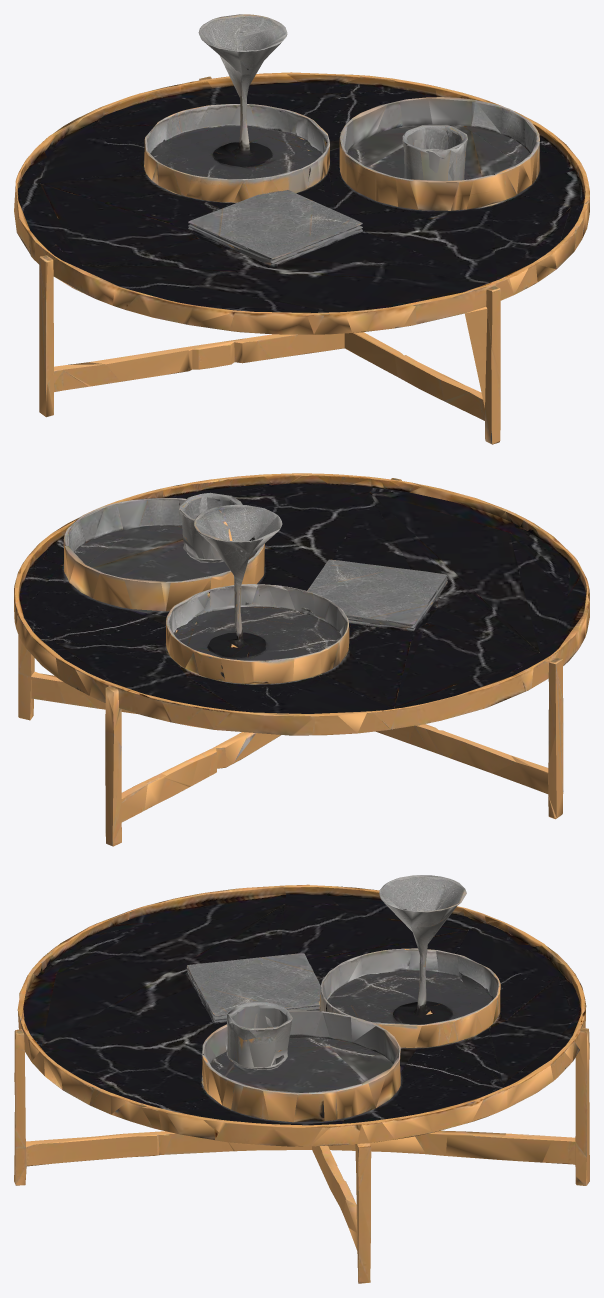
Rendered from loungeCoffee-medio.glb.
The picture shows the model from 3 angles, top to bottom: view 1: azimuth 30°, elevation 25°; view 2: azimuth 150°, elevation 25°; view 3: azimuth 270°, elevation 25°; orthographic projection.
Bounding box in the file's own units: 1.9 × 0.9801 × 1.88.
Materials: 1 (1 with a texture image).
